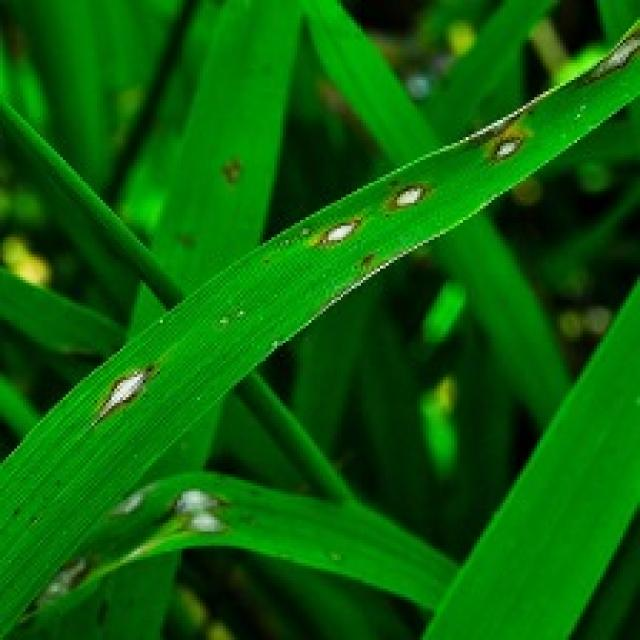Rice___Rice_Blast: (0, 16, 637, 637)
